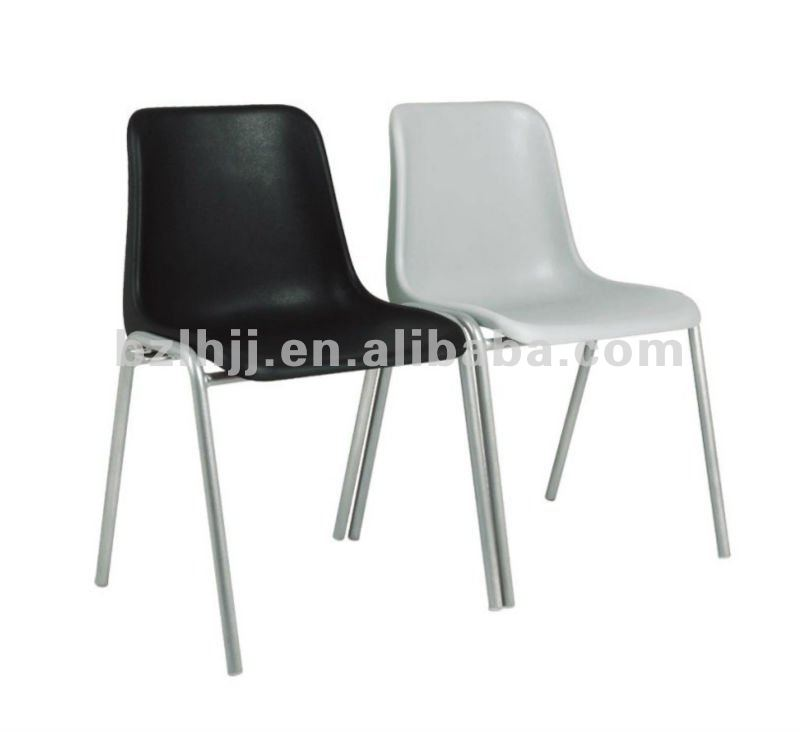chairs: (89, 102, 505, 680), (349, 98, 740, 612)
